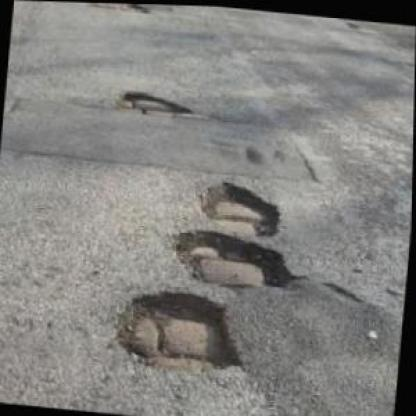pothole: (114, 283, 251, 376), (170, 223, 304, 293), (198, 175, 284, 234), (114, 84, 198, 118)
